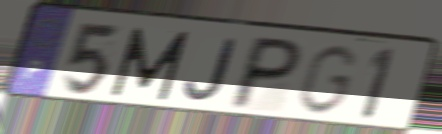1: (360, 46, 398, 123)
5: (57, 20, 125, 98)
G: (293, 43, 361, 118)
J: (182, 36, 240, 103)
M: (107, 25, 193, 103)
P: (224, 34, 307, 112)
